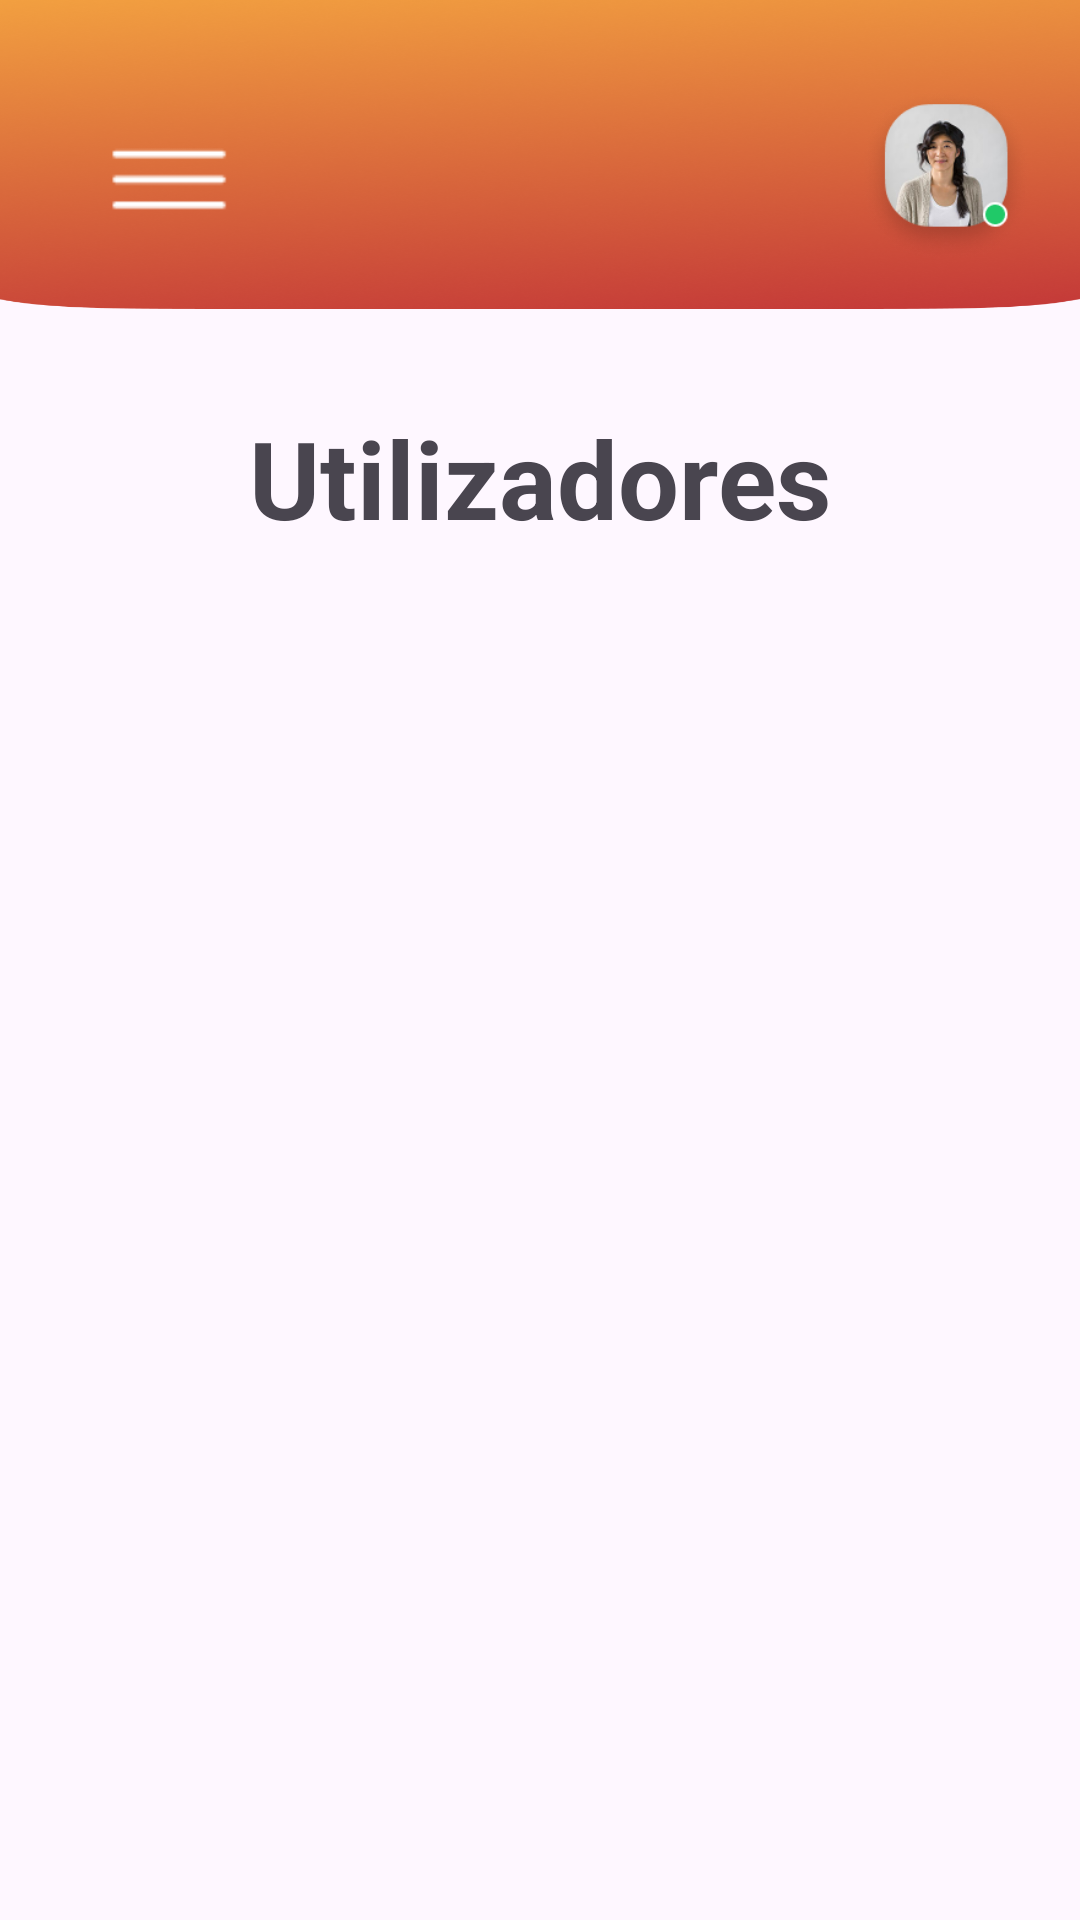

Icon click points for this 1080*1920 phone screenshot, format point (x, y):
menu: point (168, 165)
profile: point (945, 174)
